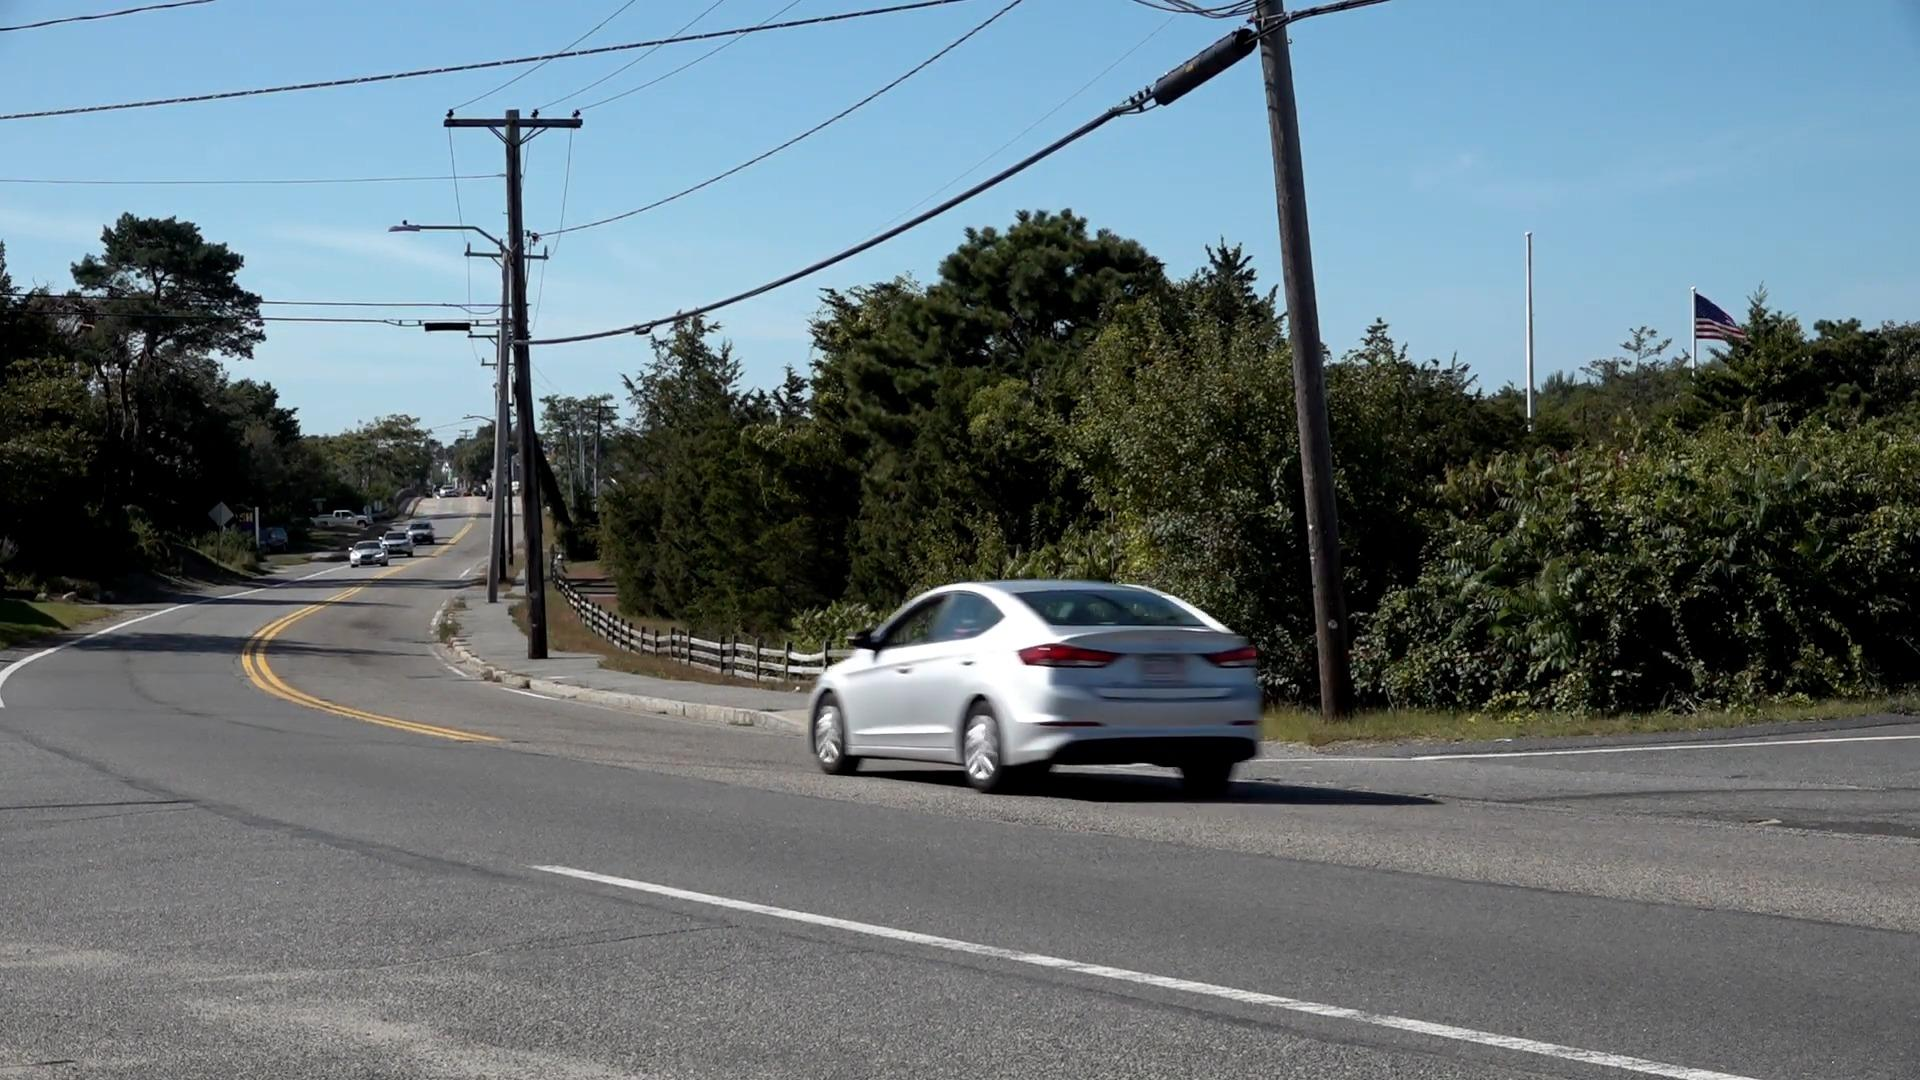sedans: (807, 575, 1263, 799)
